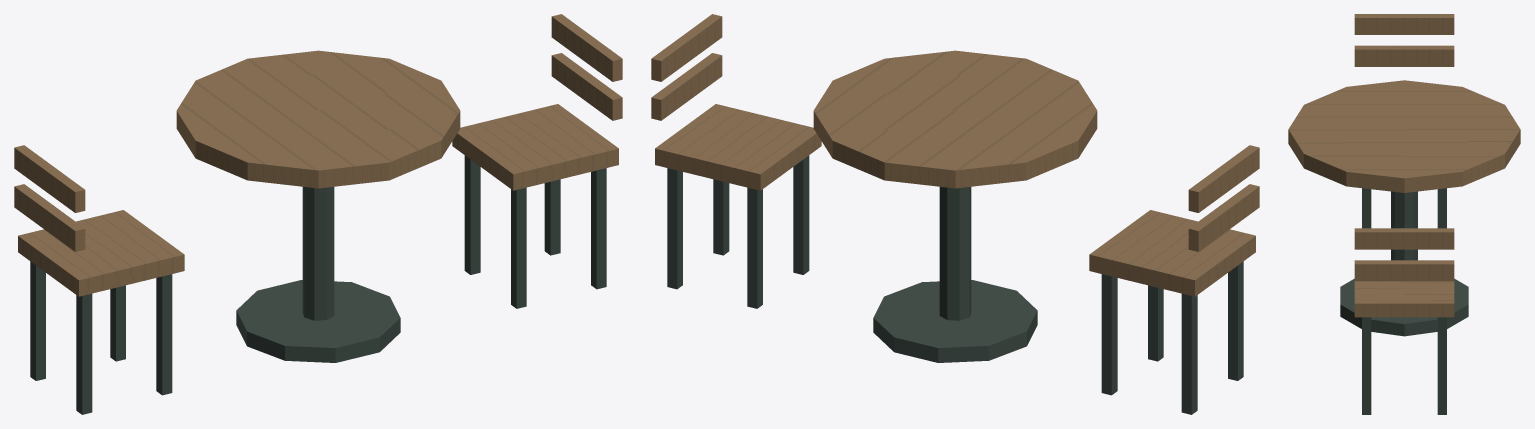
Rendered from SM_QD_StreetPark_CafeSet.fbx.
3 views of the same model, side by side, from view 1: azimuth 30°, elevation 25°; view 2: azimuth 150°, elevation 25°; view 3: azimuth 270°, elevation 25° (orthographic). The views are drawn at different scales.
Parts seen in each view (by area): view 1: SM_QD_StreetPark_CafeSet; view 2: SM_QD_StreetPark_CafeSet; view 3: SM_QD_StreetPark_CafeSet.
Part boxes in pixels (x1,y1,x2,y2): SM_QD_StreetPark_CafeSet: (14, 14, 622, 414); SM_QD_StreetPark_CafeSet: (651, 14, 1259, 414); SM_QD_StreetPark_CafeSet: (1288, 14, 1520, 414).
Size of the model in its own units: 1.91 by 0.86 by 0.765.
